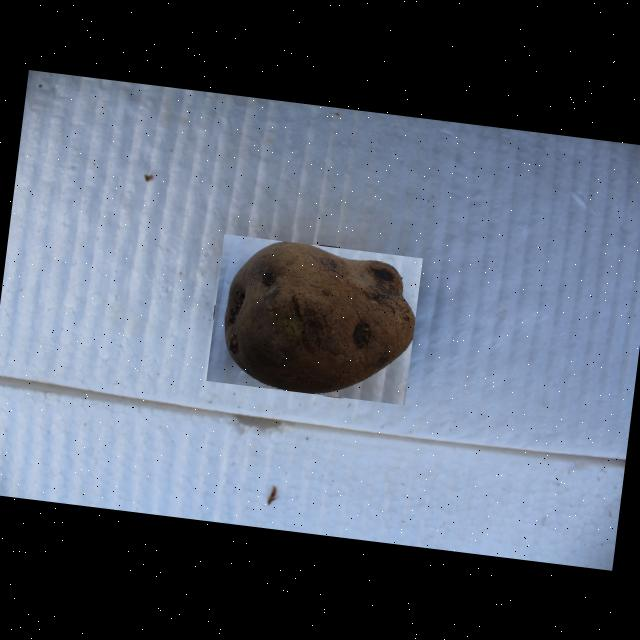Diseased-fungal potato: (205, 234, 422, 405)
